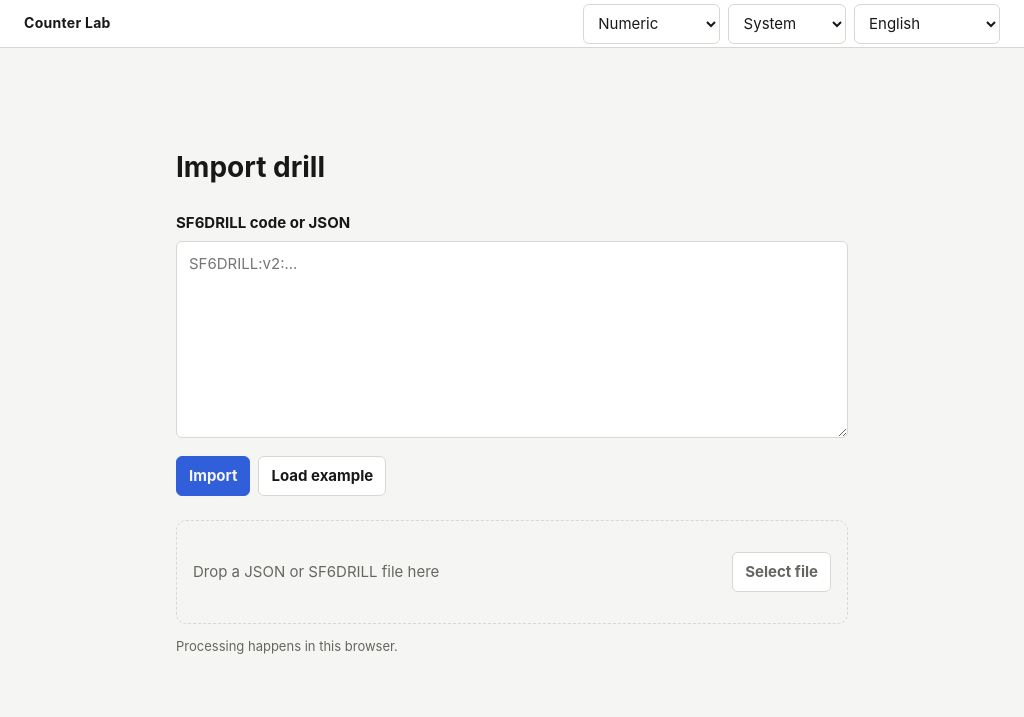
Test: App › keeps the current drill when a replacement import is invalid
The image size is (1024, 717).
Click the button "Load example": (322,476) top-left (258, 456), bottom-right (386, 496)
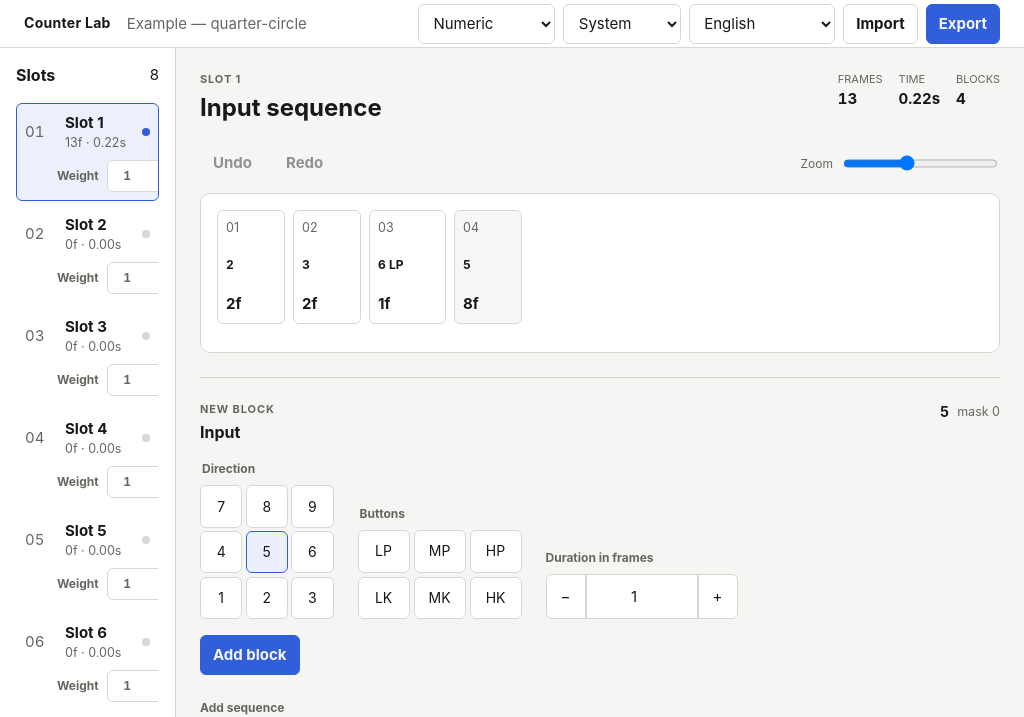
Click the button "Import": (880,24) top-left (843, 4), bottom-right (918, 44)
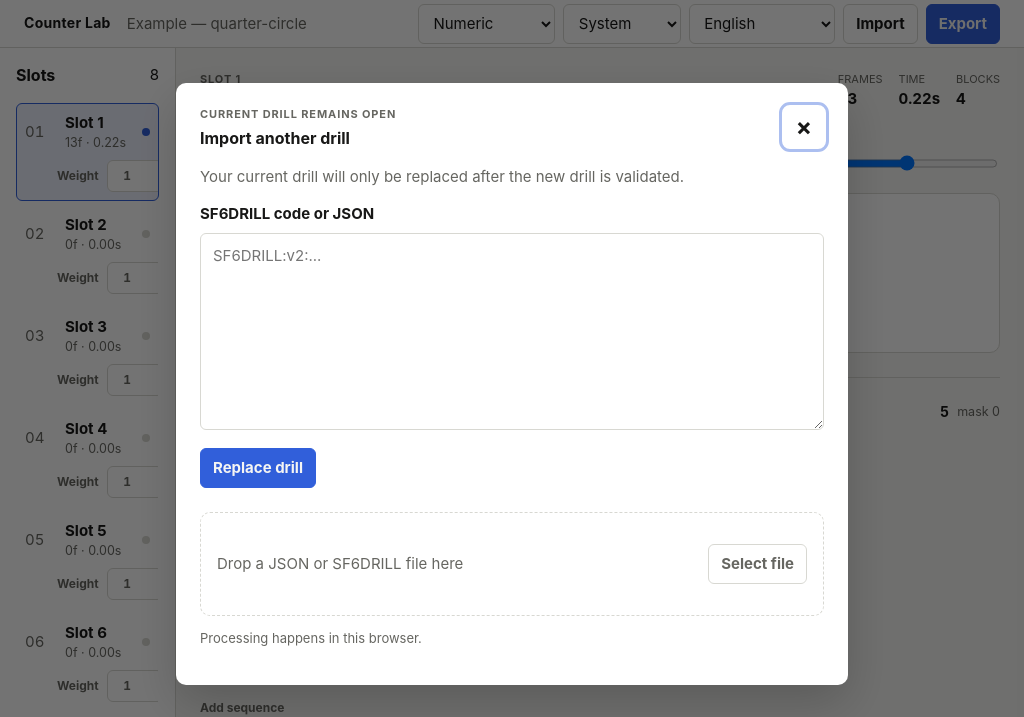
In the text box labelled "SF6DRILL code or JSON": (512,332) top-left (200, 233), bottom-right (824, 430), type "invalid replacement"
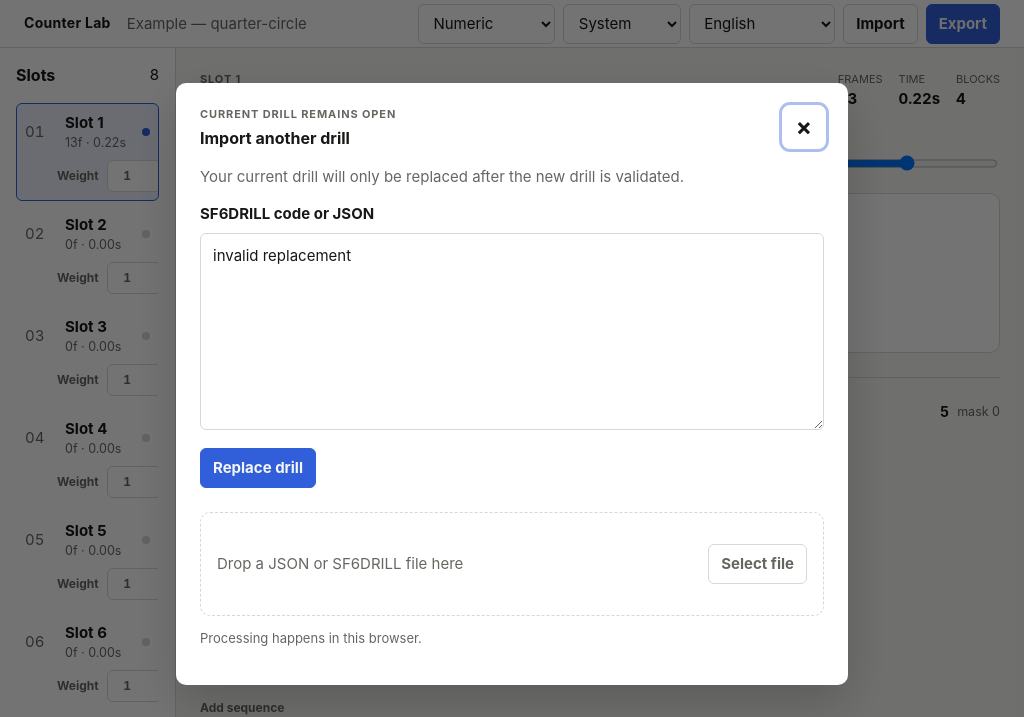
Click the button "Replace drill": (258,468) top-left (200, 448), bottom-right (316, 488)
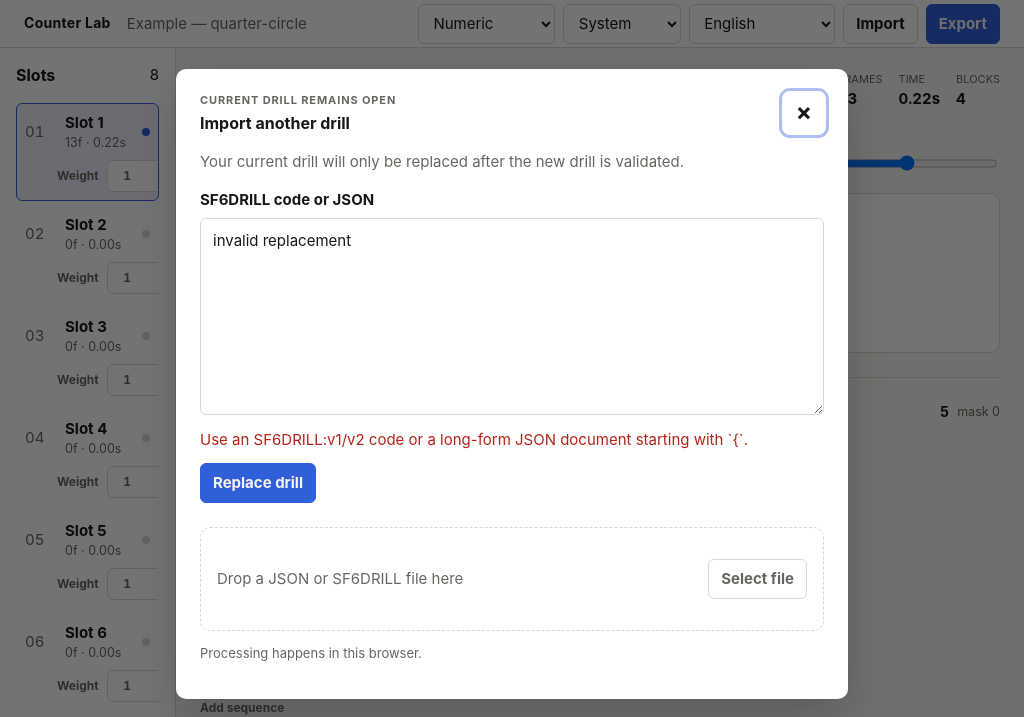
Now the dialog "Import another drill" is shown, box top-left (176, 68), bottom-right (848, 699)
Now the text "Example — quarter-circle" is shown, box top-left (127, 13), bottom-right (307, 34)
Now the message "Use an SF6DRILL:v1/v2 code or a long-form JSON document starting with `{`." is shown, box top-left (200, 429), bottom-right (824, 451)
